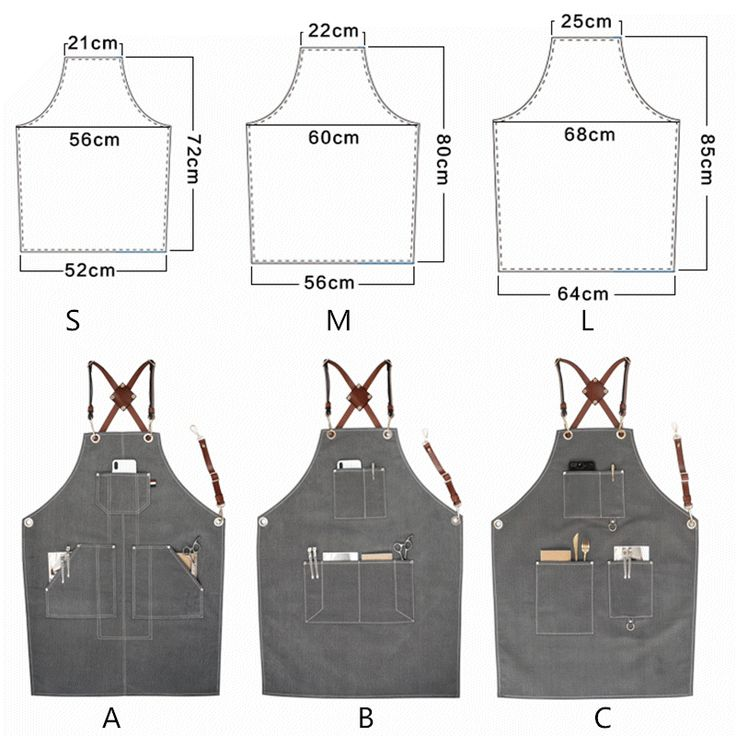cuero: (85, 358, 694, 508)
